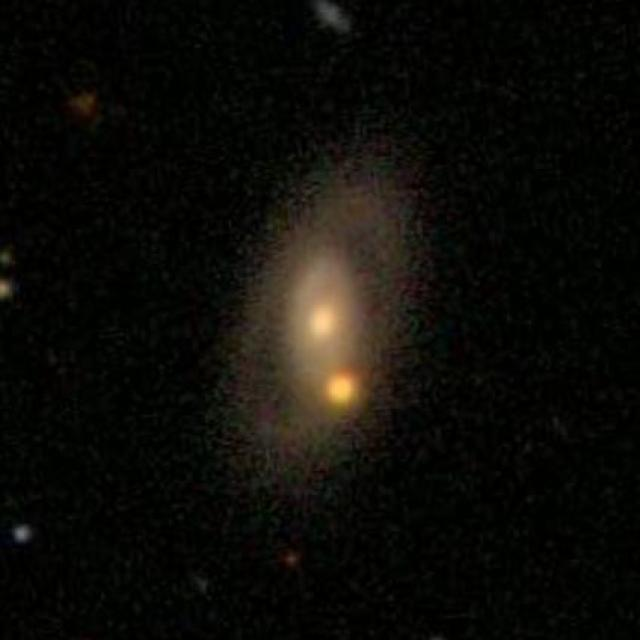galaxy: (196, 140, 438, 535), (317, 365, 374, 420), (310, 1, 354, 39), (70, 87, 102, 122), (186, 568, 214, 596), (11, 521, 35, 547), (1, 243, 18, 268), (1, 277, 15, 302), (287, 550, 299, 570)
